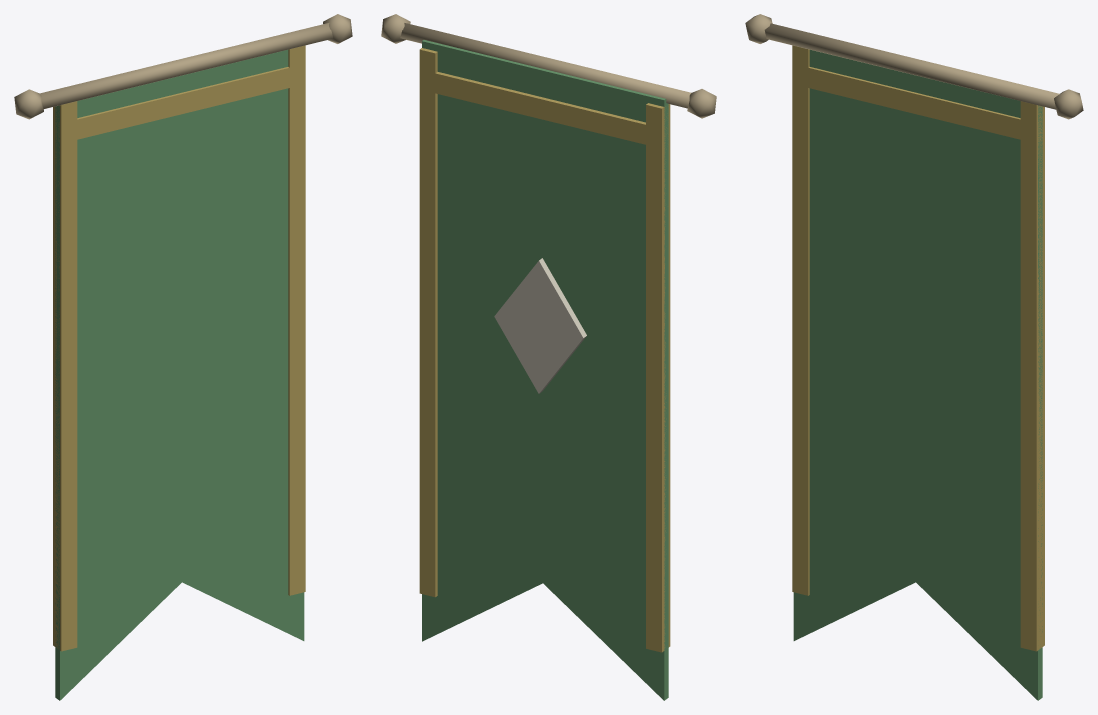
Rendered from poltergeist_banner_v0.glb.
3 renders of one model, left to right at view 1: azimuth 30°, elevation 25°; view 2: azimuth 150°, elevation 25°; view 3: azimuth 330°, elevation 25°, orthographic.
Parts seen in each view (by area): view 1: poltergeist_banner_v0; view 2: poltergeist_banner_v0; view 3: poltergeist_banner_v0.
Part boxes in pixels (left/top/right/bottom): poltergeist_banner_v0: left=14, top=14, right=352, bottom=700; poltergeist_banner_v0: left=381, top=14, right=716, bottom=700; poltergeist_banner_v0: left=745, top=14, right=1083, bottom=700.
Size of the model in its own units: 1.04 by 1.84 by 0.0933.
